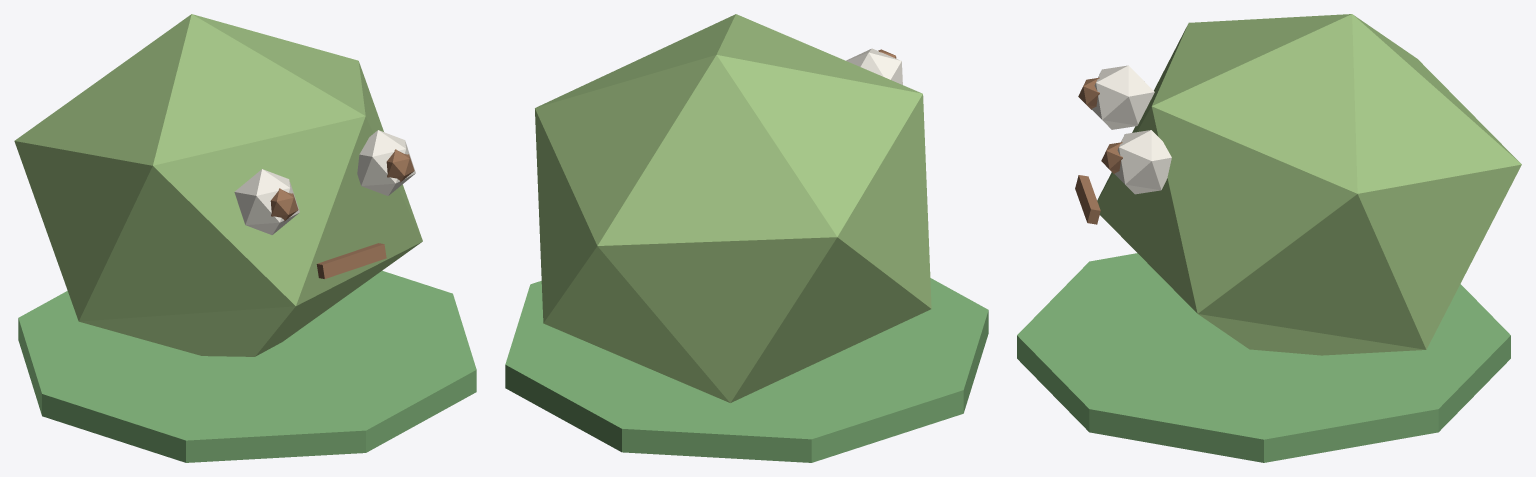
Rendered from npcpose_slime_attack_05.glb.
The picture shows the model from 3 angles, left to right: view 1: azimuth 30°, elevation 25°; view 2: azimuth 150°, elevation 25°; view 3: azimuth 270°, elevation 25°; orthographic projection. The views are drawn at different scales.
Parts seen in each view (by area): view 1: npcpose; view 2: npcpose; view 3: npcpose.
Part boxes in pixels (x1,y1,x2,y2): npcpose: (14,14,476,462); npcpose: (505,14,988,462); npcpose: (1017,14,1521,462).
Bounding box in the file's own units: 0.96 × 0.7272 × 0.9814.
